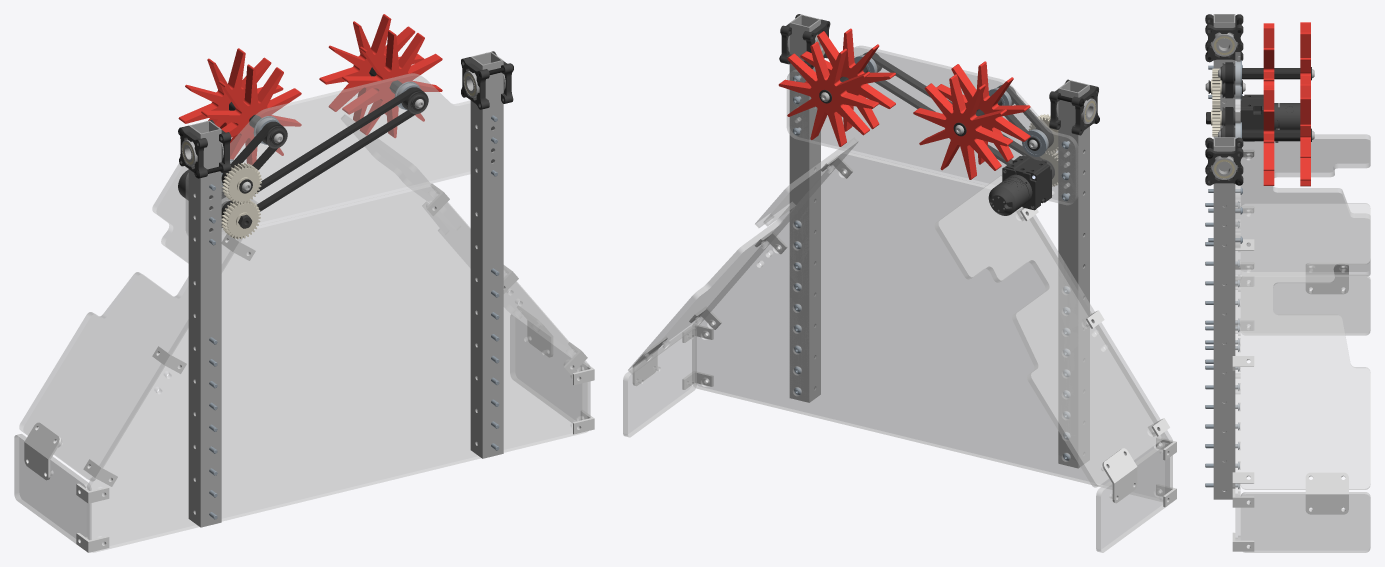
3 renders of one model, left to right at view 1: azimuth 30°, elevation 25°; view 2: azimuth 150°, elevation 25°; view 3: azimuth 270°, elevation 25°, orthographic. The views are drawn at different scales.
Visible parts, largest first — view 1: Part 2 (×4), Part 1 (×4), 1" x 1" x 18" Tube (×2), Entrapption Star 1/2" Hex Bore (am-0619a) (×4), 180t 3mm Belt, Spur Gear (32T, 20DP, 1/2" Hex Bore) (×2), REV-21-2551-P01 (×2), 65t 3mm Belt; view 2: Part 2 (×4), Part 1 (×4), 1" x 1" x 18" Tube (×2), Entrapption Star 1/2" Hex Bore (am-0619a) (×4), 180t 3mm Belt, NEO 550 Motor (REV-21-1651); view 3: Part 1 (×8), 1" x 1" x 18" Tube (×2), Part 2 (×4), Entrapption Star 1/2" Hex Bore (am-0619a) (×4), REV-21-2551-P01 (×4), Shaft (×2), 1/2" Rounded Hex (13.75mm) ID Bearing (1.125" OD, 0.313" WD, (×2), NEO 550 Motor (REV-21-1651), Spur Gear (32T, 20DP, 1/2" Hex Bore) (×2), VersaPlanetary Output Block (217-2625), VersaPlanetary Input Block (217-2625), 65t 3mm Belt (+1 smaller).
Part boxes in pixels (bbox=[...]): Part 2 (×4): bbox=[24, 73, 590, 552]; Part 1 (×4): bbox=[14, 115, 587, 543]; 1" x 1" x 18" Tube (×2): bbox=[188, 51, 503, 527]; Entrapption Star 1/2" Hex Bore (am-0619a) (×4): bbox=[178, 14, 442, 164]; 180t 3mm Belt: bbox=[221, 87, 425, 218]; Spur Gear (32T, 20DP, 1/2" Hex Bore) (×2): bbox=[221, 162, 261, 239]; REV-21-2551-P01 (×2): bbox=[179, 57, 489, 178]; 65t 3mm Belt: bbox=[222, 121, 284, 183]; Part 2 (×4): bbox=[632, 45, 1172, 503]; Part 1 (×4): bbox=[623, 137, 1169, 552]; 1" x 1" x 18" Tube (×2): bbox=[789, 14, 1089, 468]; Entrapption Star 1/2" Hex Bore (am-0619a) (×4): bbox=[778, 28, 1030, 179]; 180t 3mm Belt: bbox=[863, 52, 1053, 178]; NEO 550 Motor (REV-21-1651): bbox=[988, 174, 1032, 215]; Part 1 (×8): bbox=[1232, 134, 1370, 552]; 1" x 1" x 18" Tube (×2): bbox=[1213, 14, 1235, 499]; Part 2 (×4): bbox=[1235, 52, 1348, 540]; Entrapption Star 1/2" Hex Bore (am-0619a) (×4): bbox=[1263, 22, 1310, 186]; REV-21-2551-P01 (×4): bbox=[1205, 14, 1243, 185]; Shaft (×2): bbox=[1218, 67, 1314, 141]; 1/2" Rounded Hex (13.75mm) ID Bearing (1.125" OD, 0.313" WD, (×2): bbox=[1211, 32, 1237, 179]; NEO 550 Motor (REV-21-1651): bbox=[1274, 103, 1300, 142]; Spur Gear (32T, 20DP, 1/2" Hex Bore) (×2): bbox=[1211, 68, 1221, 136]; VersaPlanetary Output Block (217-2625): bbox=[1240, 94, 1254, 141]; VersaPlanetary Input Block (217-2625): bbox=[1254, 94, 1263, 129]; 65t 3mm Belt: bbox=[1225, 62, 1232, 98].
Size of the model in its own units: 0.6159 by 0.4992 by 0.1937.
